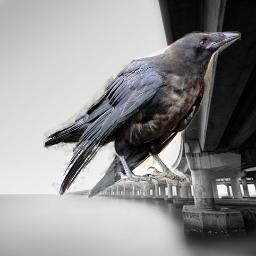Crow: (43, 31, 241, 198)
